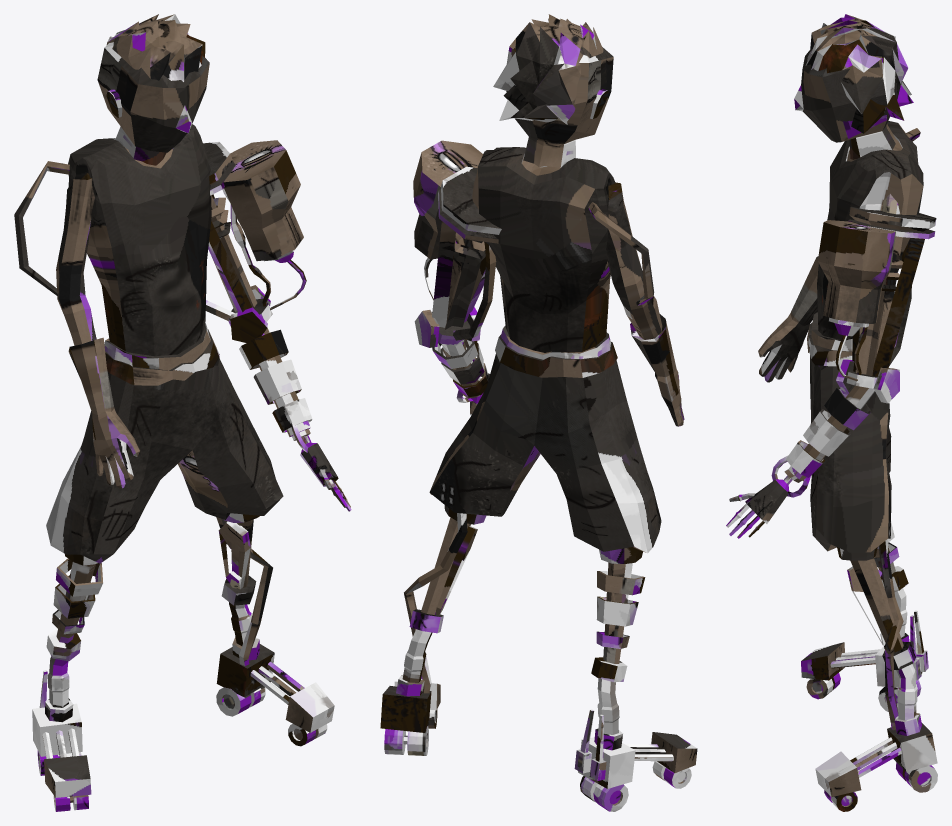
The model's file is CyborgFINALAnimation_000039.obj.
3 renders of one model, left to right at view 1: azimuth 30°, elevation 25°; view 2: azimuth 150°, elevation 25°; view 3: azimuth 270°, elevation 25°, orthographic. The views are drawn at different scales.
Visible parts, largest first — view 1: CyborgMesh_Cube.002; view 2: CyborgMesh_Cube.002; view 3: CyborgMesh_Cube.002.
Part boxes in pixels (x1,y1,x2,y2): CyborgMesh_Cube.002: (14,14,351,811); CyborgMesh_Cube.002: (380,14,697,811); CyborgMesh_Cube.002: (726,14,937,811).
Bounding box in the file's own units: 3.84 × 9.67 × 2.58.
